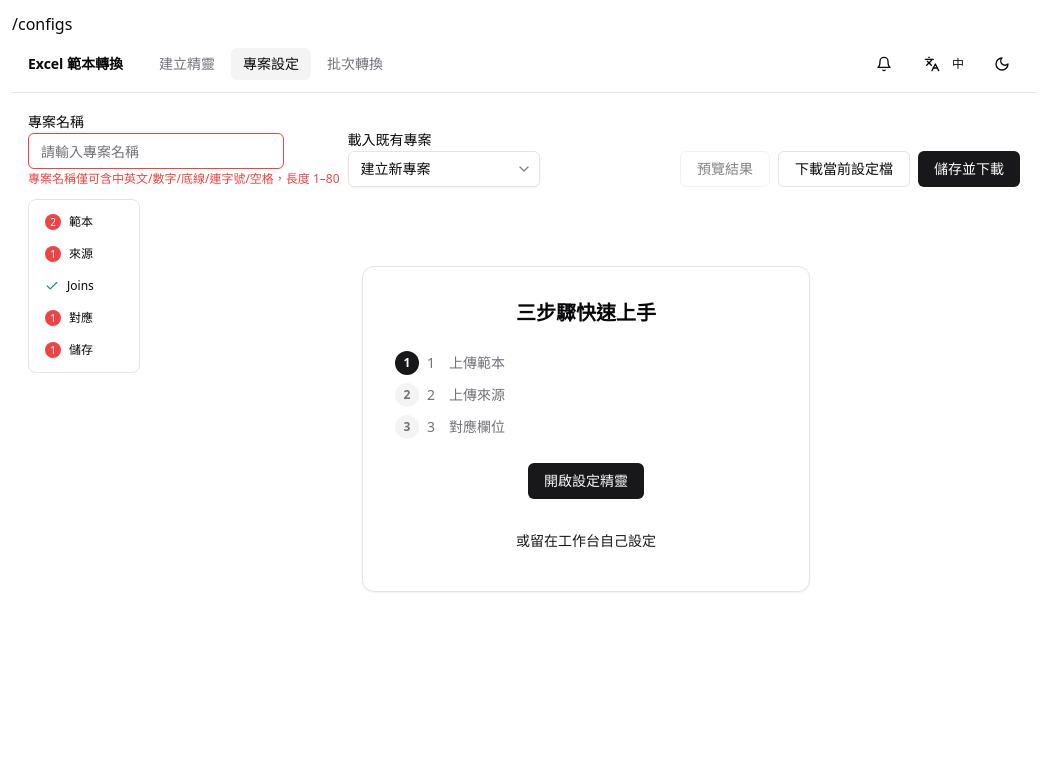
Test: App wizard entry points (REQ-09) › onboardingSecondaryStaysInWorkbench
Click the button "或留在工作台自己設定" at (586, 541), box [500, 523, 672, 559]
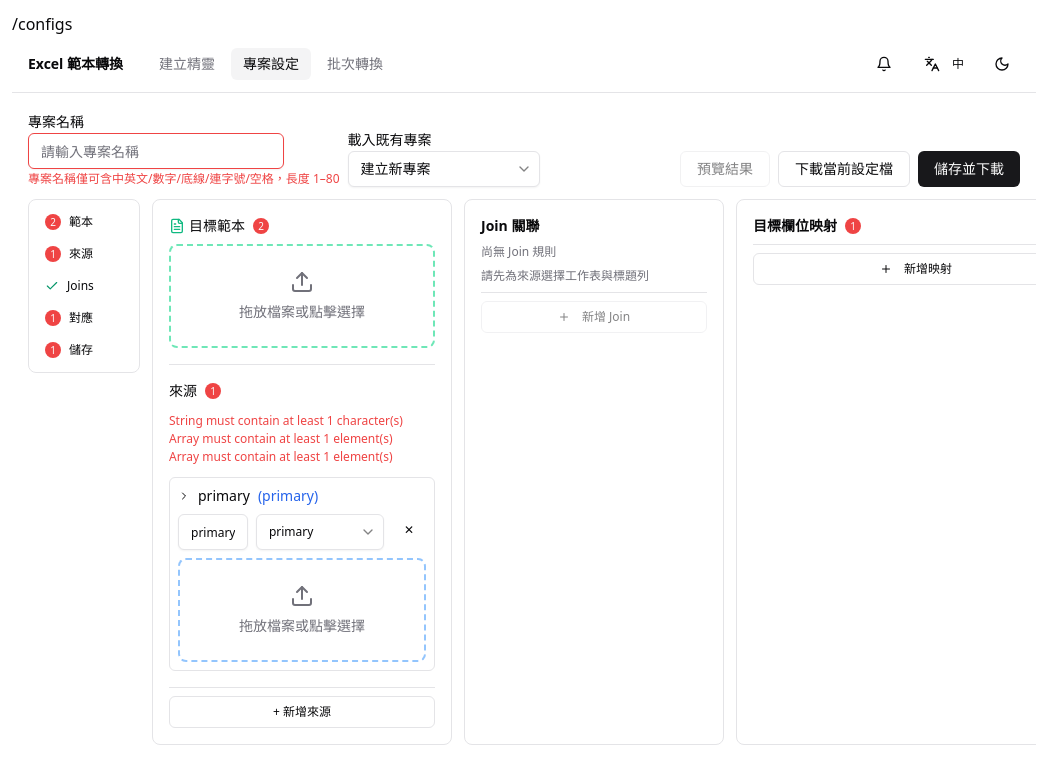
Check: the text with test id "location-probe" reads "/configs", box [12, 13, 72, 35]
Check: the heading "三步驟快速上手" is gone
Check: the element that starts with "目標範本" is shown, box [152, 199, 452, 745]
